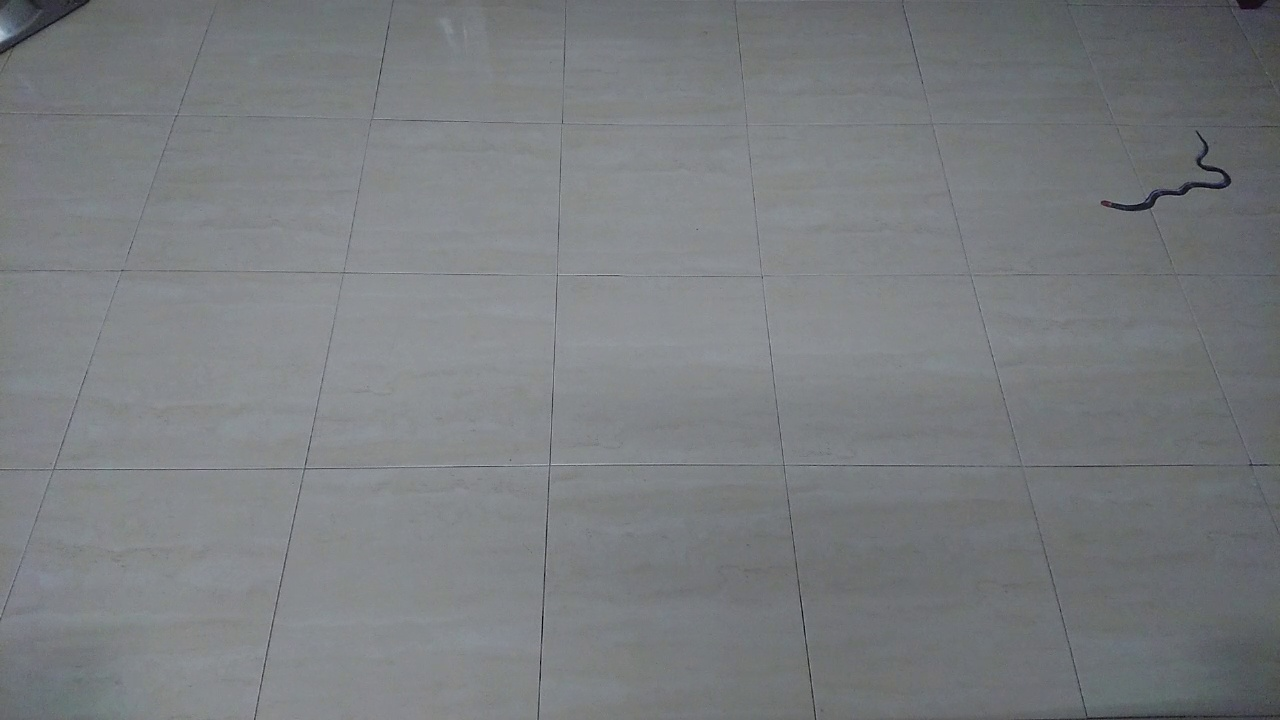snake: (1074, 114, 1240, 231)
